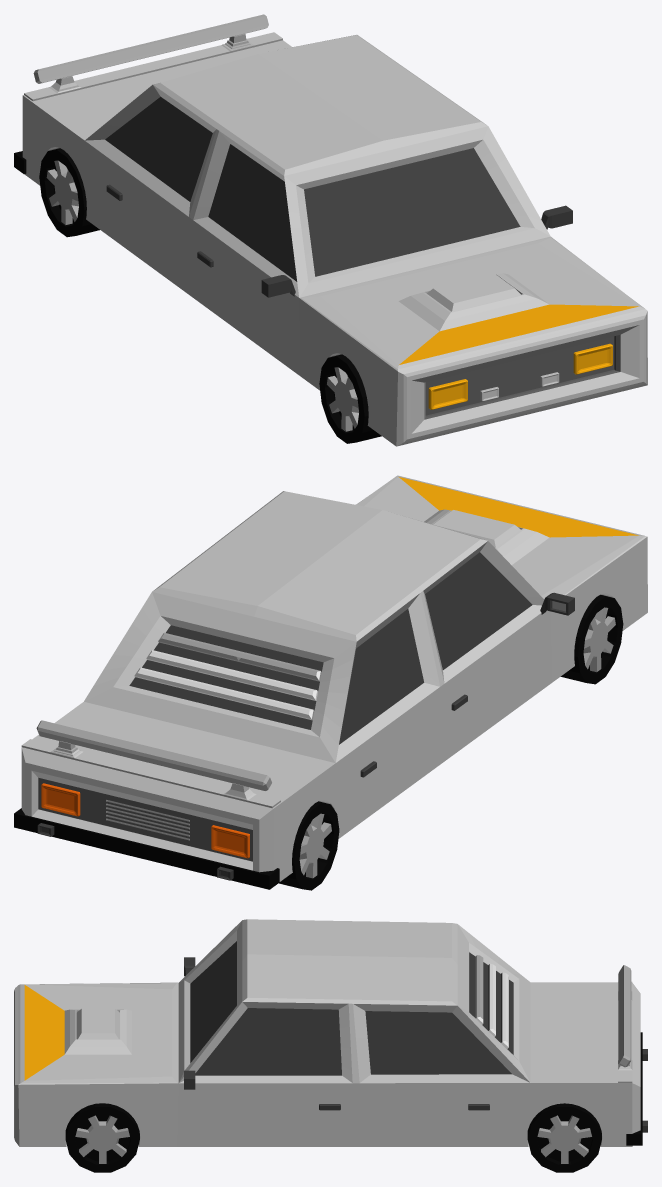
The model's file is fl_wheel.glb.
The picture shows the model from 3 angles, top to bottom: view 1: azimuth 30°, elevation 25°; view 2: azimuth 150°, elevation 25°; view 3: azimuth 270°, elevation 25°; orthographic projection. The views are drawn at different scales.
Parts seen in each view (by area): view 1: FL WHEEL.002_BODY.005_0; view 2: FL WHEEL.002_BODY.005_0; view 3: FL WHEEL.002_BODY.005_0.
Part boxes in pixels (<box>): FL WHEEL.002_BODY.005_0: <box>14,14,647,446</box>; FL WHEEL.002_BODY.005_0: <box>14,475,647,890</box>; FL WHEEL.002_BODY.005_0: <box>14,919,647,1172</box>.
Size of the model in its own units: 0.3594 by 0.2293 by 0.7903.
1 material, 1 textured.
